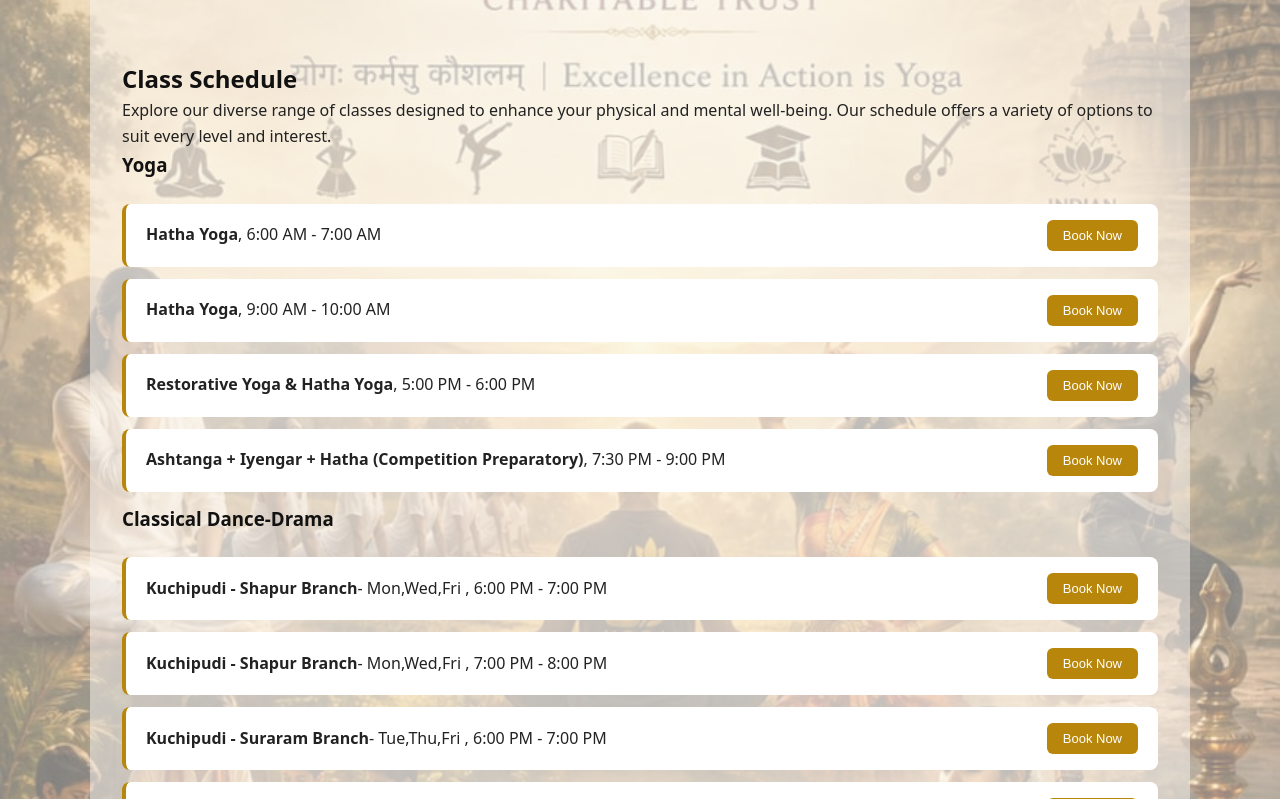
Scenario: Schedule › opens the booking form for the class that was clicked, with a branch selector for Yoga
Click the button "Book Now" in the row of "6:00 AM - 7:00 AM".
click(1092, 235)  # box [1047, 220, 1138, 250]
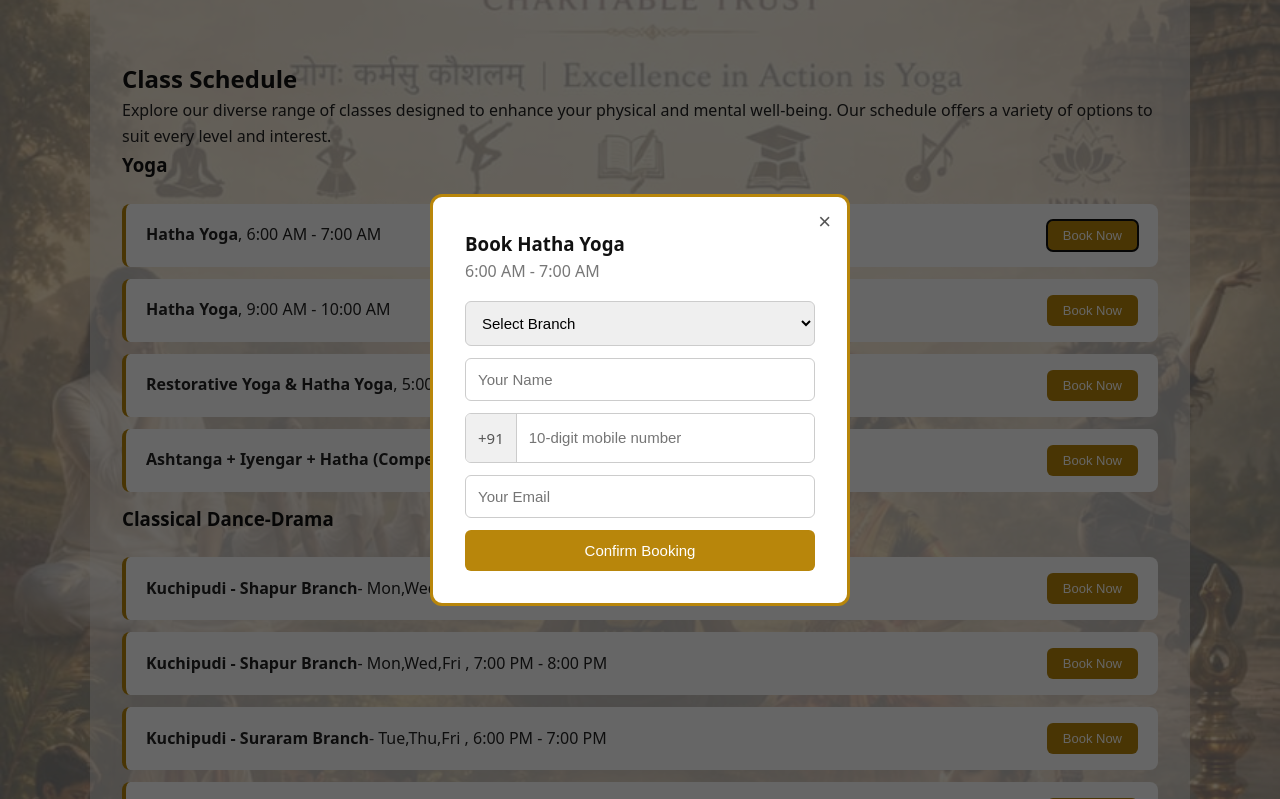
Result: the heading "Book Hatha Yoga" is shown at [465, 231, 625, 256]
